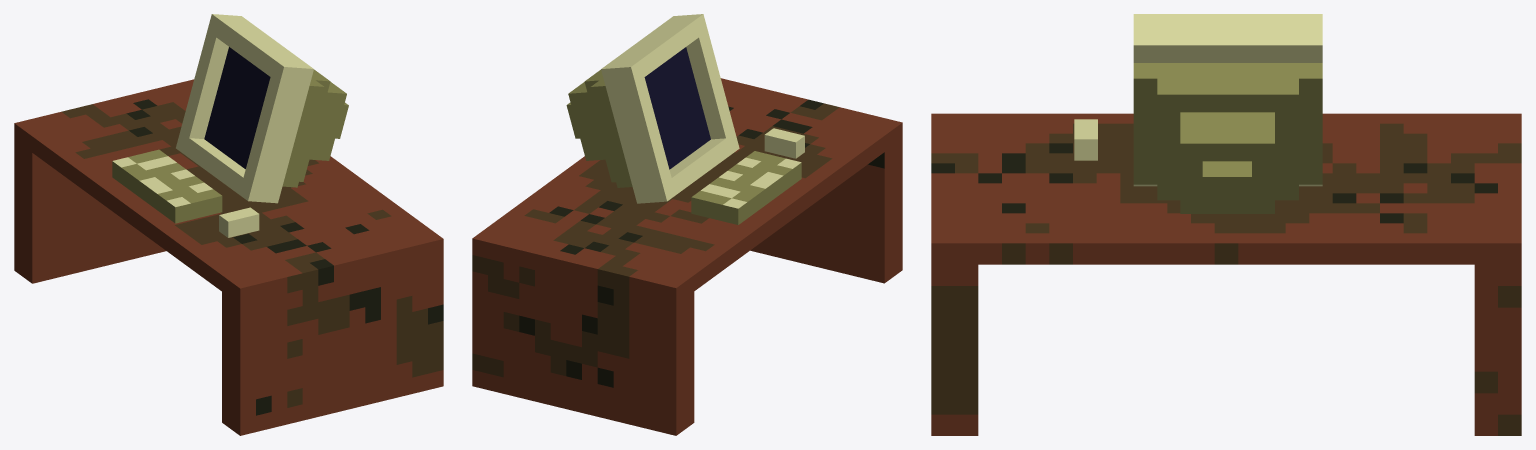
Rendered from biurko z komputerem.fbx.
3 renders of one model, left to right at view 1: azimuth 30°, elevation 25°; view 2: azimuth 150°, elevation 25°; view 3: azimuth 270°, elevation 25°, orthographic. The views are drawn at different scales.
Visible parts, largest first — view 1: biurko, komputer, klawiatura, myszka; view 2: biurko, komputer, klawiatura, myszka; view 3: biurko, komputer, myszka.
Part boxes in pixels (bbox=[...]): biurko: bbox=[14, 79, 443, 435]; komputer: bbox=[176, 14, 348, 203]; klawiatura: bbox=[112, 149, 222, 223]; myszka: bbox=[219, 207, 259, 237]; biurko: bbox=[472, 78, 902, 435]; komputer: bbox=[566, 14, 739, 203]; klawiatura: bbox=[691, 151, 801, 224]; myszka: bbox=[764, 128, 804, 158]; biurko: bbox=[931, 113, 1521, 435]; komputer: bbox=[1133, 14, 1322, 213]; myszka: bbox=[1074, 119, 1097, 160].
Size of the model in its own units: 13.59 by 17.26 by 25.
